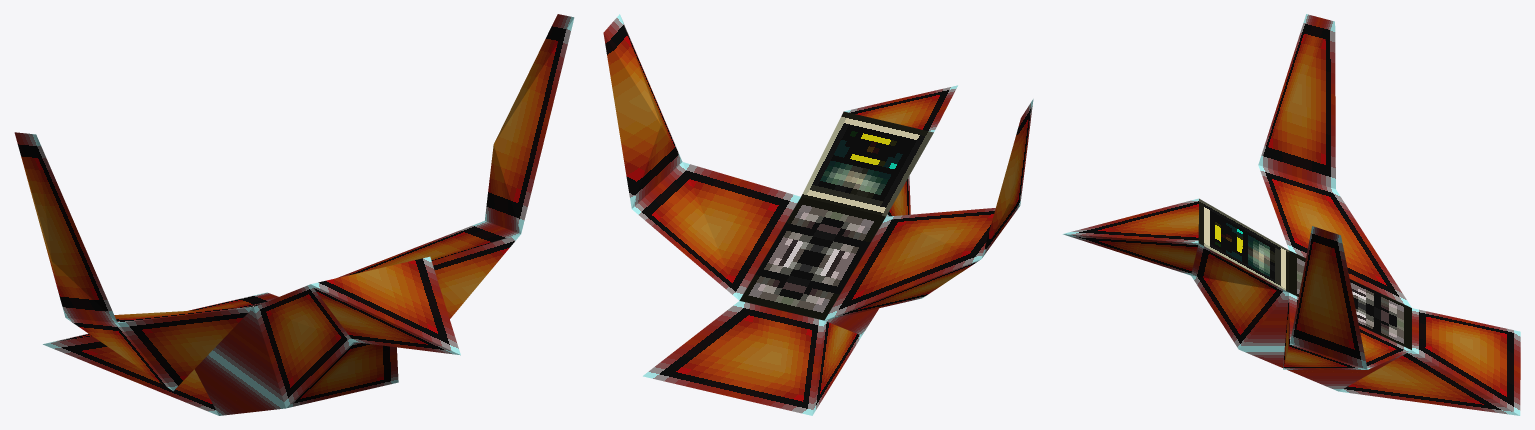
File: fire_bird.fbx
The picture shows the model from 3 angles, left to right: view 1: azimuth 30°, elevation 25°; view 2: azimuth 150°, elevation 25°; view 3: azimuth 270°, elevation 25°; orthographic projection. The views are drawn at different scales.
Parts seen in each view (by area): view 1: Firebird; view 2: Firebird; view 3: Firebird.
Part boxes in pixels (x1,y1,x2,y2): Firebird: [14, 14, 574, 415]; Firebird: [603, 14, 1033, 415]; Firebird: [1062, 14, 1520, 415].
Size of the model in its own units: 4674 by 2886 by 4523.
